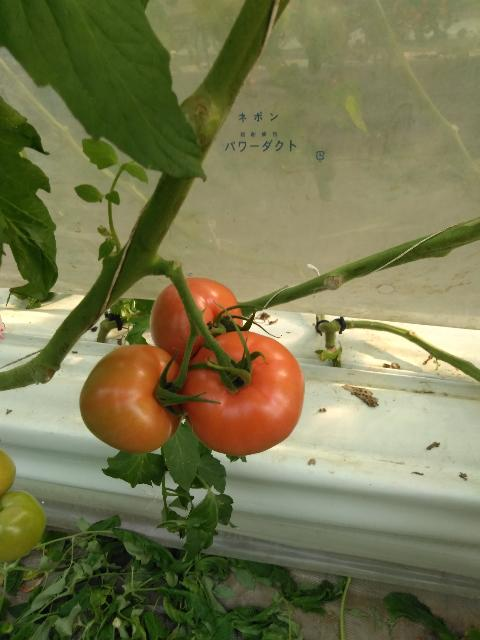b_fully_ripened: (181, 331, 305, 456), (150, 277, 243, 372)
b_green: (0, 490, 46, 562), (0, 448, 17, 497)
b_half_ripened: (79, 345, 184, 454)
